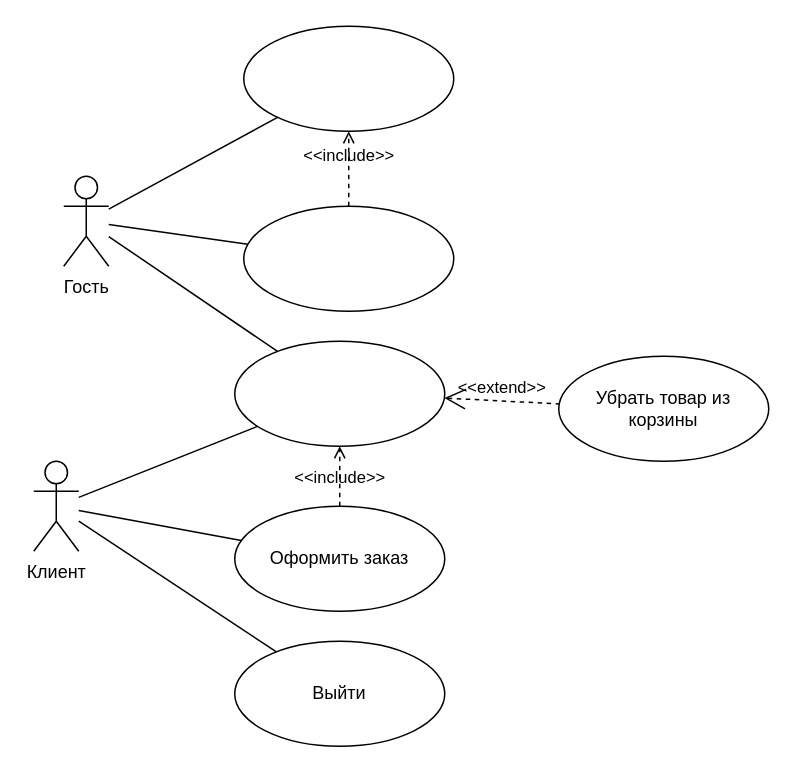
This 795x773 diagram has some shape labels left out. The box of each missing label's shape, as (x1, y1, x2, y2) in pixels:
Войти: (242, 25, 454, 131)
Добавить товар в корзину: (233, 340, 445, 446)
Зарегистрироваться: (242, 205, 454, 311)
